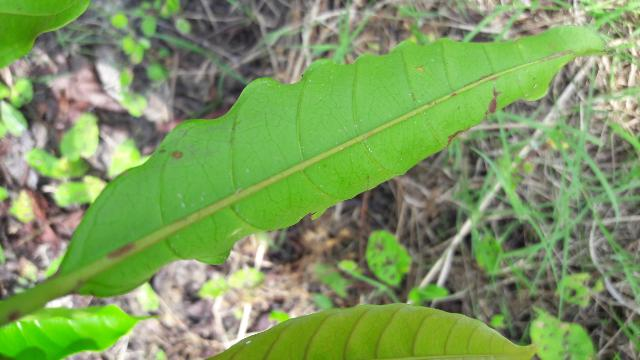red_spider_mite: (49, 24, 614, 294)
